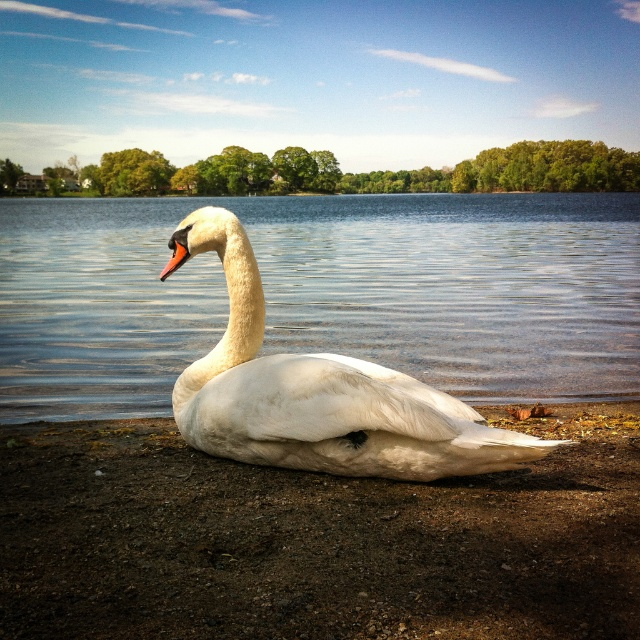Duck: (146, 191, 558, 482)
